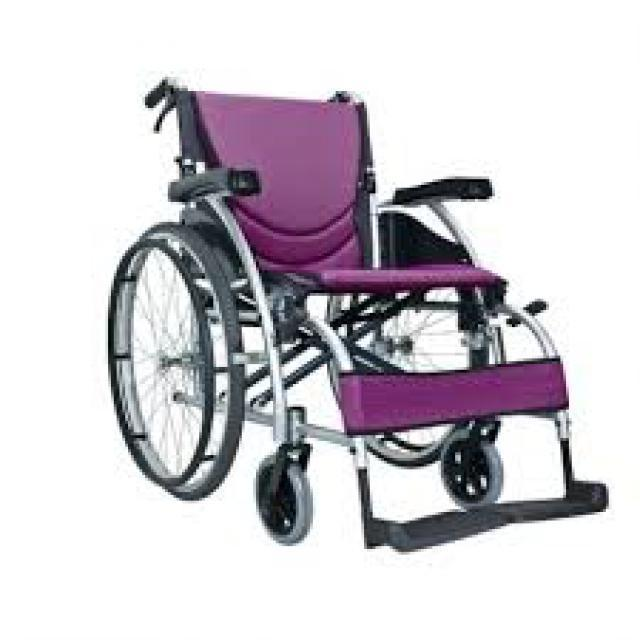wheelchairs: (104, 76, 604, 556)
